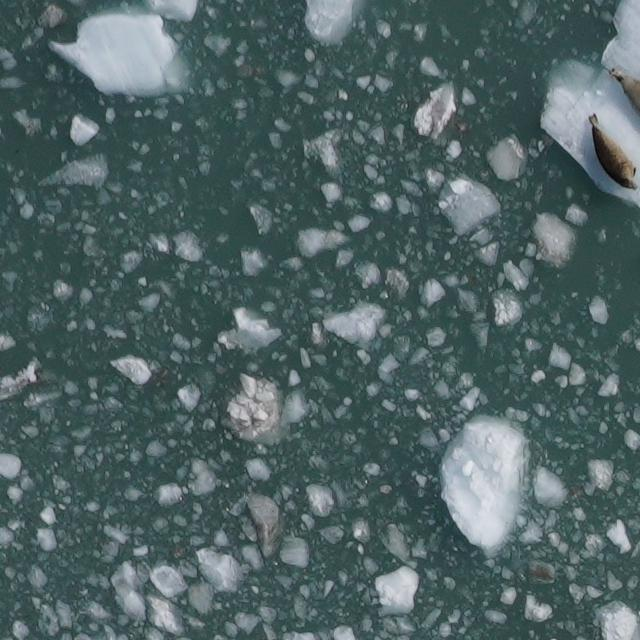seal: (583, 108, 640, 195)
